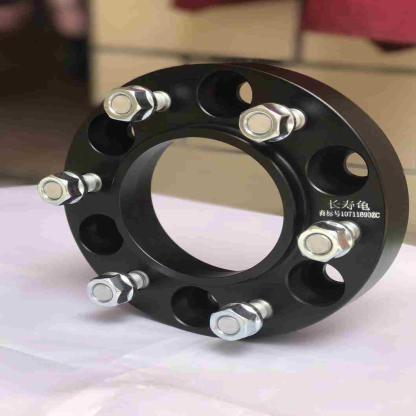FOD: (49, 55, 413, 344)
